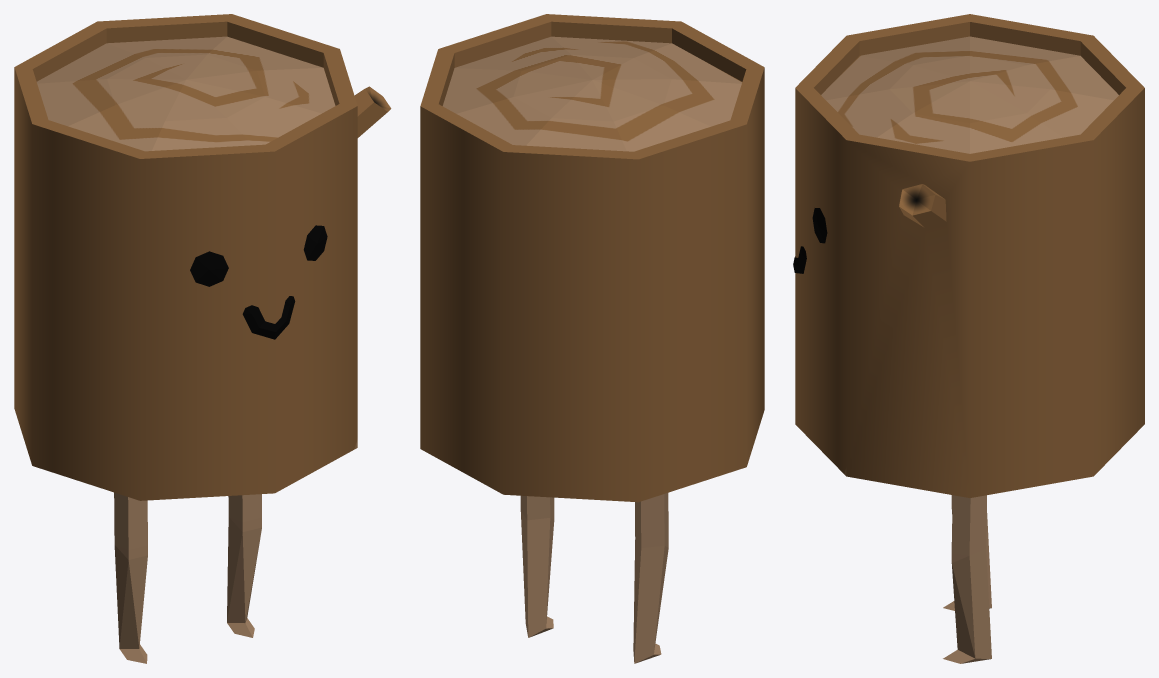
The model's file is littleTree.glb.
3 renders of one model, left to right at view 1: azimuth 30°, elevation 25°; view 2: azimuth 150°, elevation 25°; view 3: azimuth 270°, elevation 25°, orthographic.
Visible parts, largest first — view 1: mesh_id29; view 2: mesh_id29; view 3: mesh_id29.
Part boxes in pixels (box(x1,y1,x2,y2)): mesh_id29: box(14, 14, 391, 663); mesh_id29: box(420, 14, 764, 663); mesh_id29: box(793, 14, 1144, 663).
Bounding box in the file's own units: 0.316 × 0.512 × 0.2955.
1 material, 1 textured.
